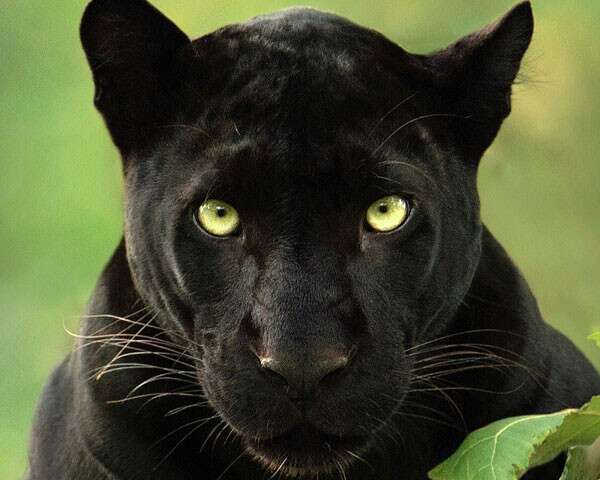panther: (70, 1, 563, 480)
